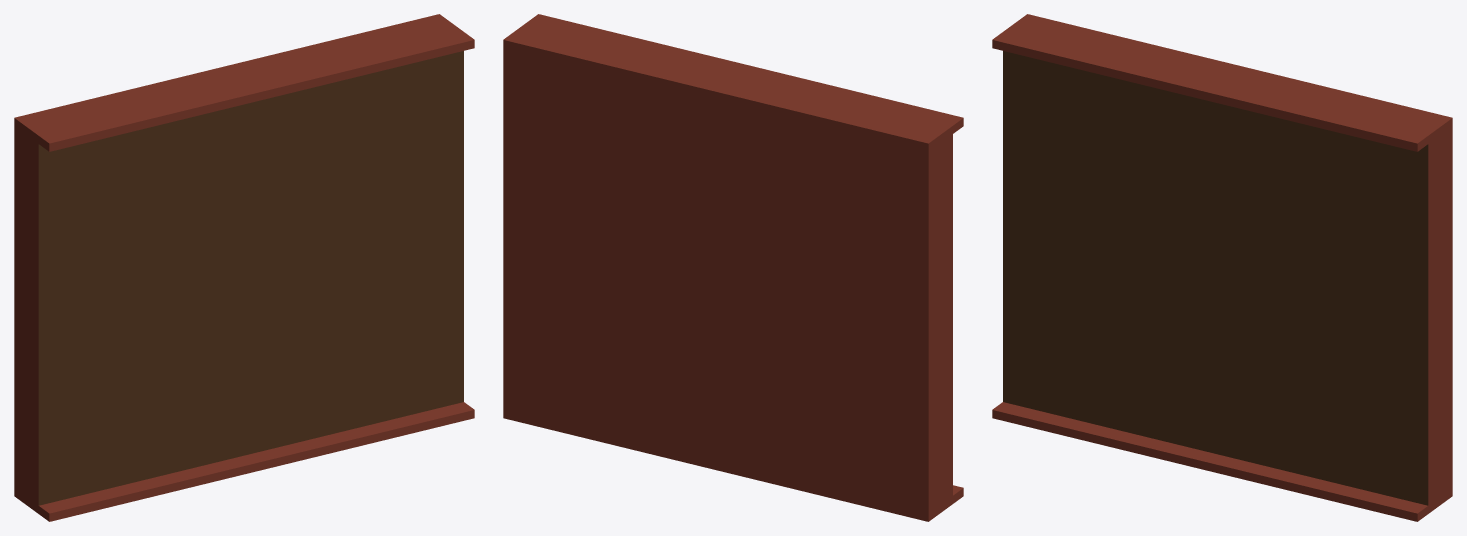
File: middle_even.glb
3 renders of one model, left to right at view 1: azimuth 30°, elevation 25°; view 2: azimuth 150°, elevation 25°; view 3: azimuth 330°, elevation 25°, orthographic.
Parts seen in each view (by area): view 1: bridge_04_middle_even; view 2: bridge_04_middle_even; view 3: bridge_04_middle_even.
Part boxes in pixels (box(x1,y1,x2,y2)): bridge_04_middle_even: box(14, 14, 474, 521); bridge_04_middle_even: box(503, 14, 963, 521); bridge_04_middle_even: box(992, 14, 1452, 521).
Size of the model in its own units: 16 by 13.6 by 2.3.
